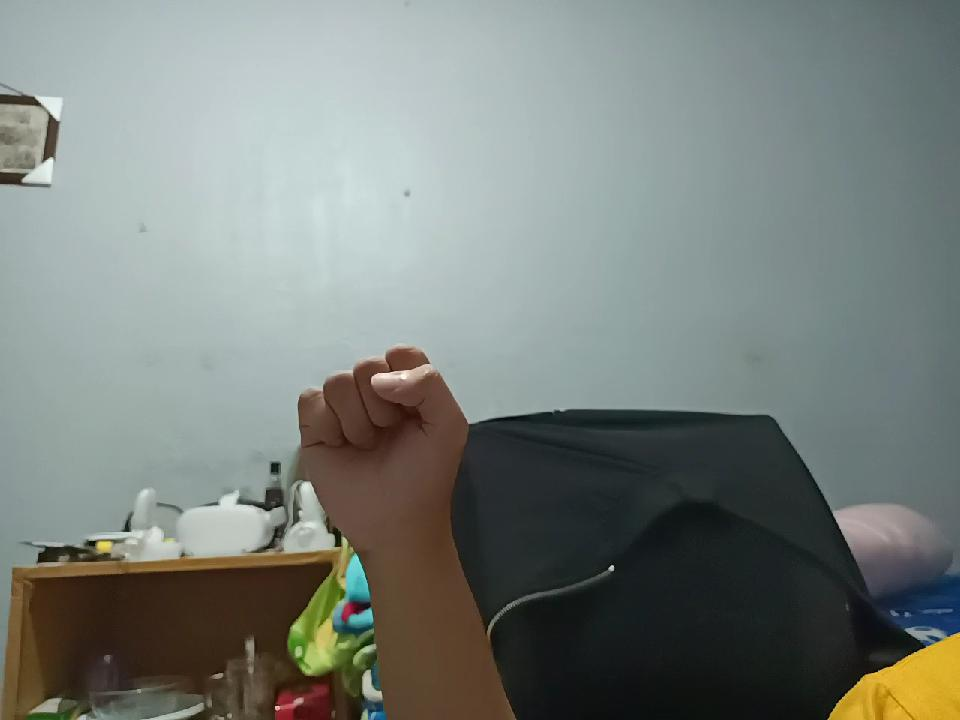rock: (290, 334, 462, 568)
